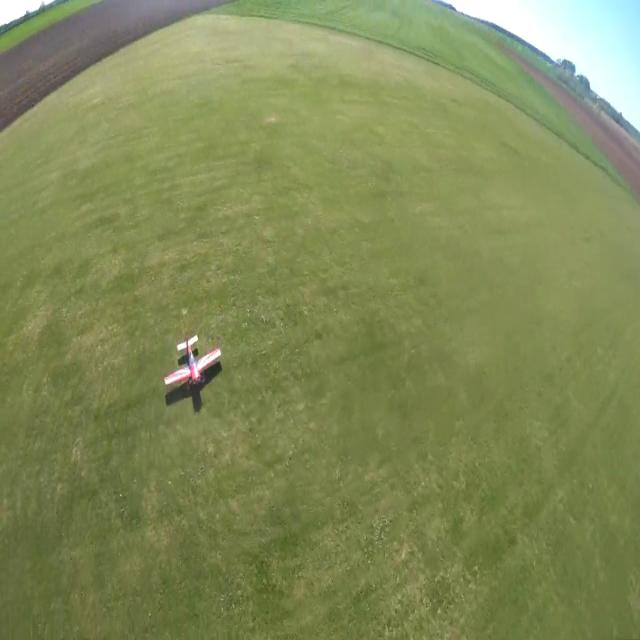iha: (163, 333, 221, 391)
